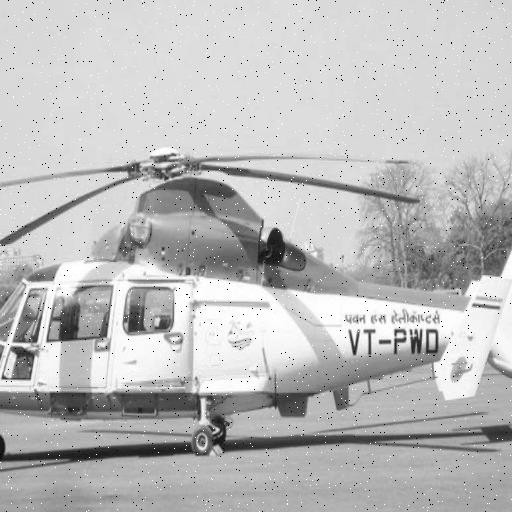helicopter: (1, 100, 512, 476)
